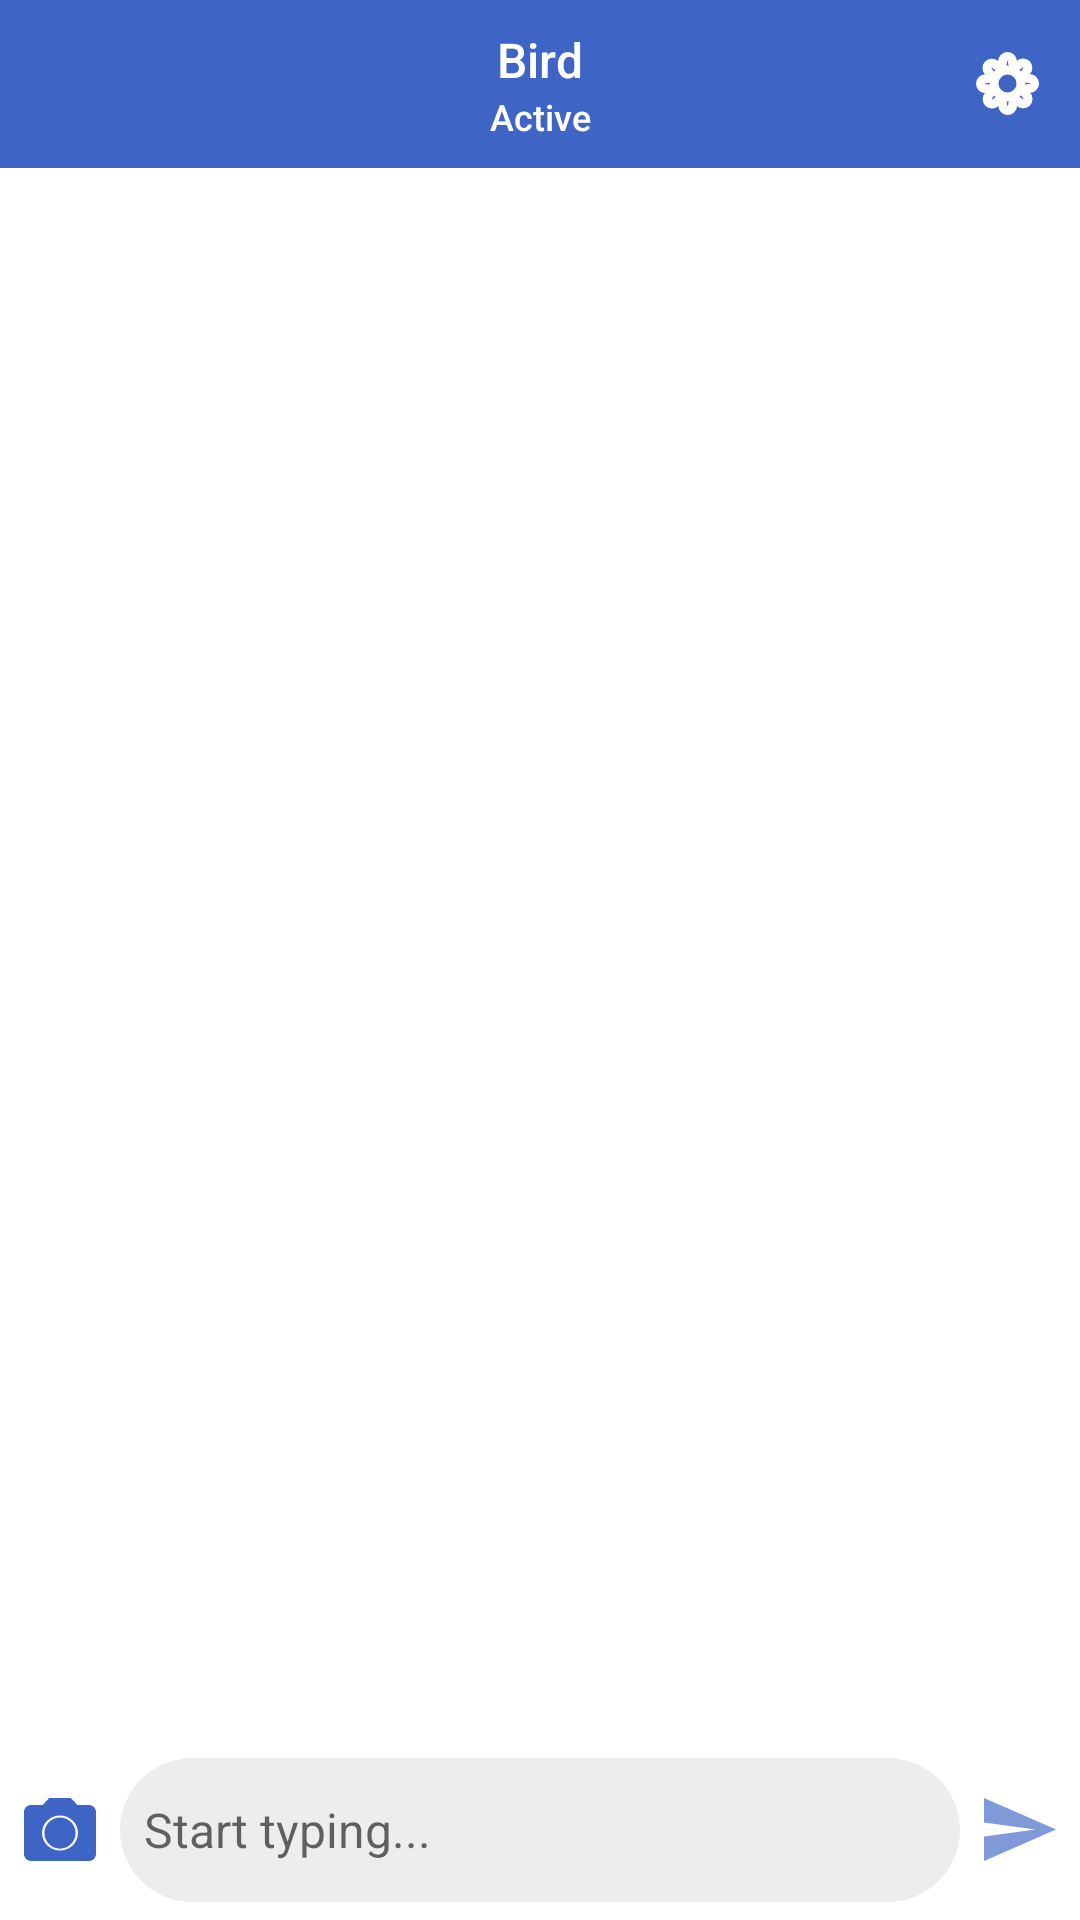

Where icons sit on this 1080w x 1920h app screen, as box(x1, y1, x2, y2):
camera: box(24, 1798, 96, 1861)
send message: box(984, 1798, 1056, 1861)
